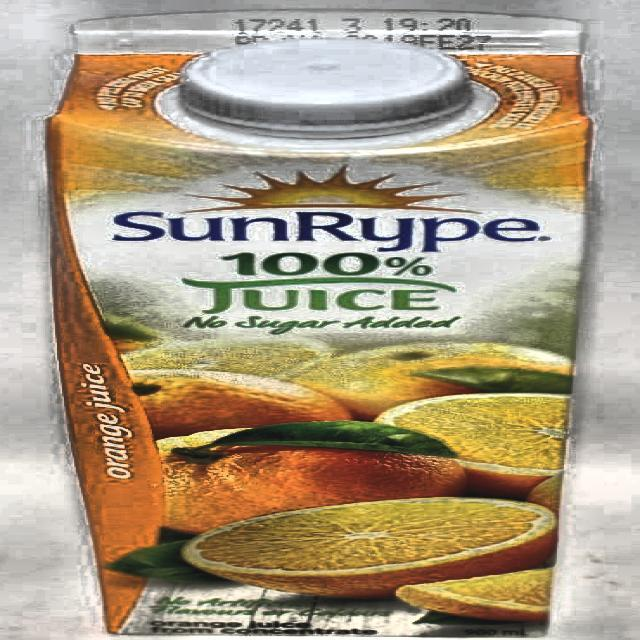cardboard: (43, 7, 597, 638)
